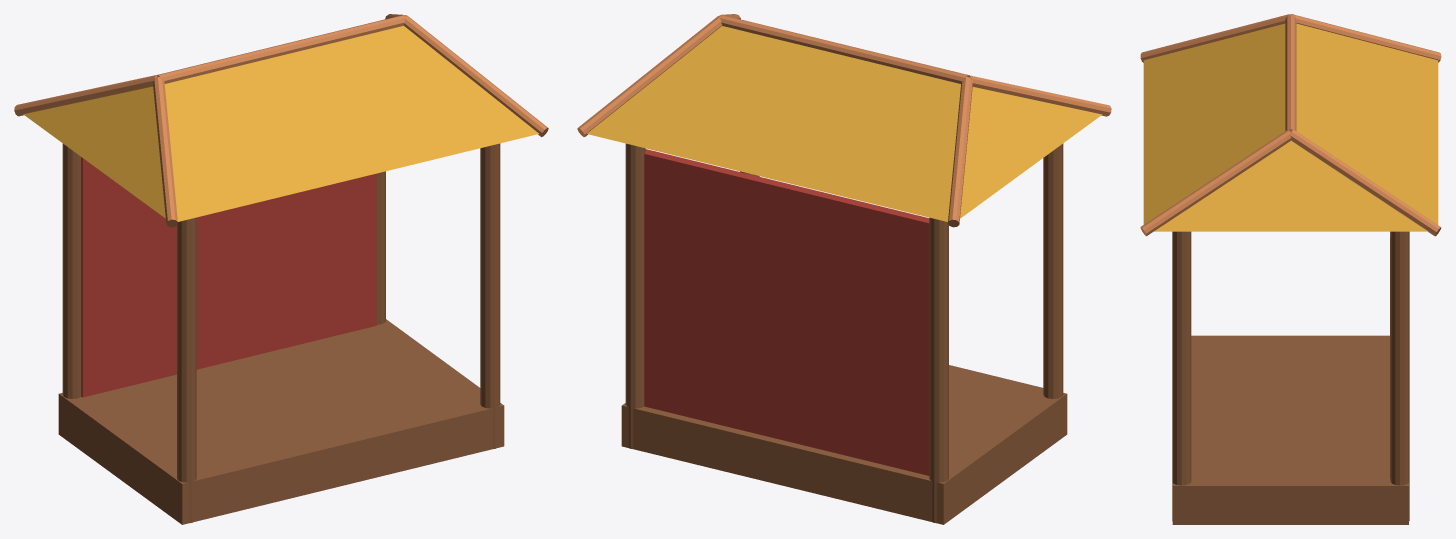
Rendered from 090_courtyard_performance_stage.glb.
3 views of the same model, side by side, from view 1: azimuth 30°, elevation 25°; view 2: azimuth 150°, elevation 25°; view 3: azimuth 270°, elevation 25° (orthographic). The views are drawn at different scales.
Parts seen in each view (by area): view 1: Courtyard performance stage; view 2: Courtyard performance stage; view 3: Courtyard performance stage.
Part boxes in pixels (x1,y1,x2,y2): Courtyard performance stage: (14, 14, 548, 524); Courtyard performance stage: (577, 14, 1111, 524); Courtyard performance stage: (1140, 14, 1441, 524).
Bounding box in the file's own units: 3.32 × 3.29 × 2.37.
